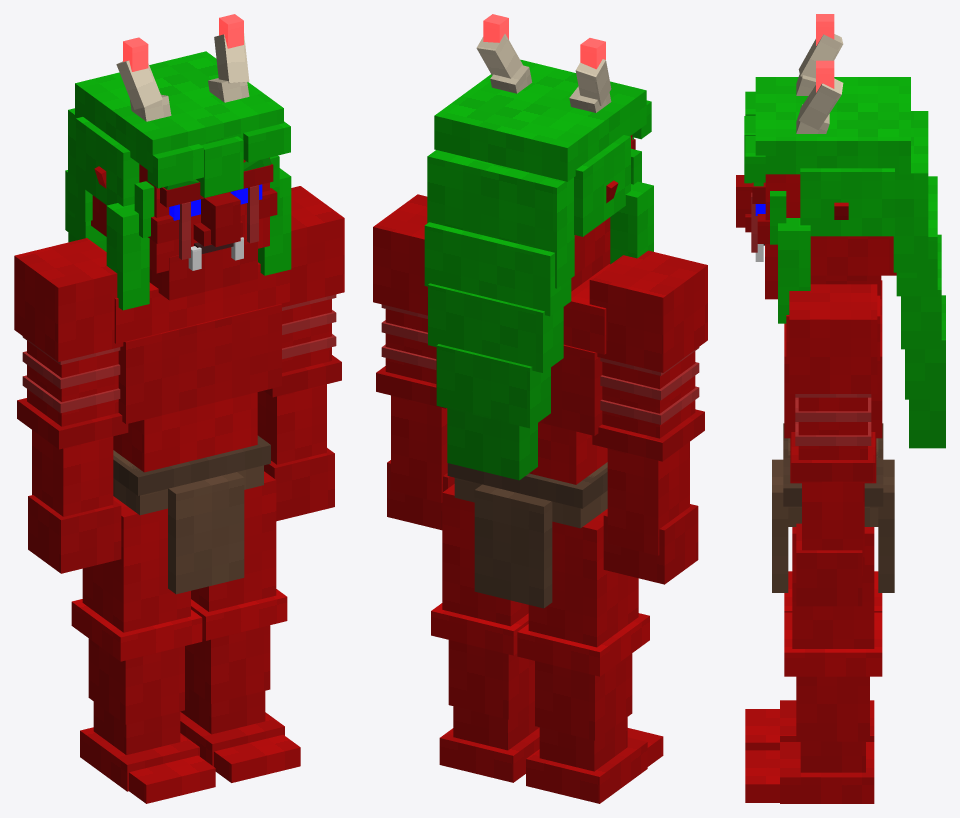
File: kijin_s0_evo1.glb
3 renders of one model, left to right at view 1: azimuth 30°, elevation 25°; view 2: azimuth 150°, elevation 25°; view 3: azimuth 270°, elevation 25°, orthographic.
Parts seen in each view (by area): view 1: Head, Torso, ArmR, LegR, LegL, ArmL; view 2: Head, ArmR, LegR, Torso, LegL, ArmL; view 3: Head, ArmL, LegL, Torso, LegR.
Part boxes in pixels (x1,y1,x2,y2): Head: [65, 14, 291, 310]; Torso: [113, 262, 289, 594]; ArmR: [14, 238, 128, 573]; LegR: [71, 496, 215, 803]; LegL: [180, 471, 300, 782]; ArmL: [257, 186, 344, 521]; Head: [424, 14, 653, 480]; ArmR: [589, 250, 707, 584]; LegR: [517, 509, 663, 803]; Torso: [436, 264, 609, 608]; LegL: [431, 484, 539, 782]; ArmL: [373, 194, 454, 530]; Head: [736, 14, 945, 448]; ArmL: [789, 284, 877, 606]; LegL: [745, 527, 882, 803]; Torso: [772, 280, 894, 592]; LegR: [745, 571, 882, 750].
Bounding box in the file's own units: 0.807 × 1.95 × 0.5125.
Materials: 27 (27 with a texture image).
